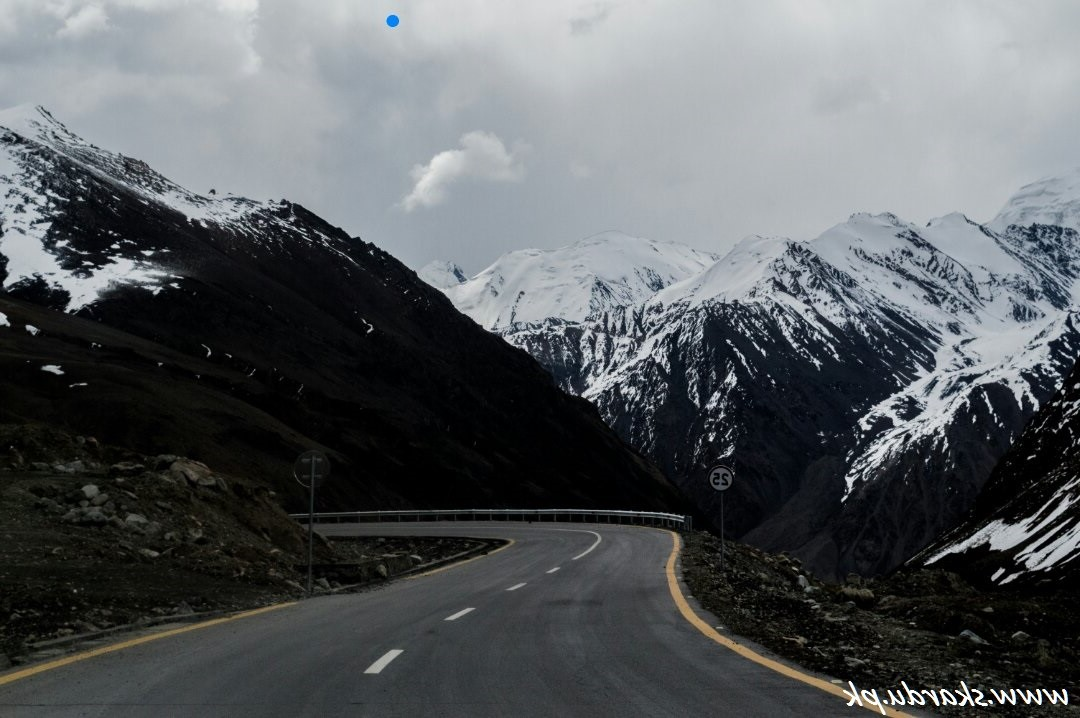leftTrun: (319, 470, 685, 671)
